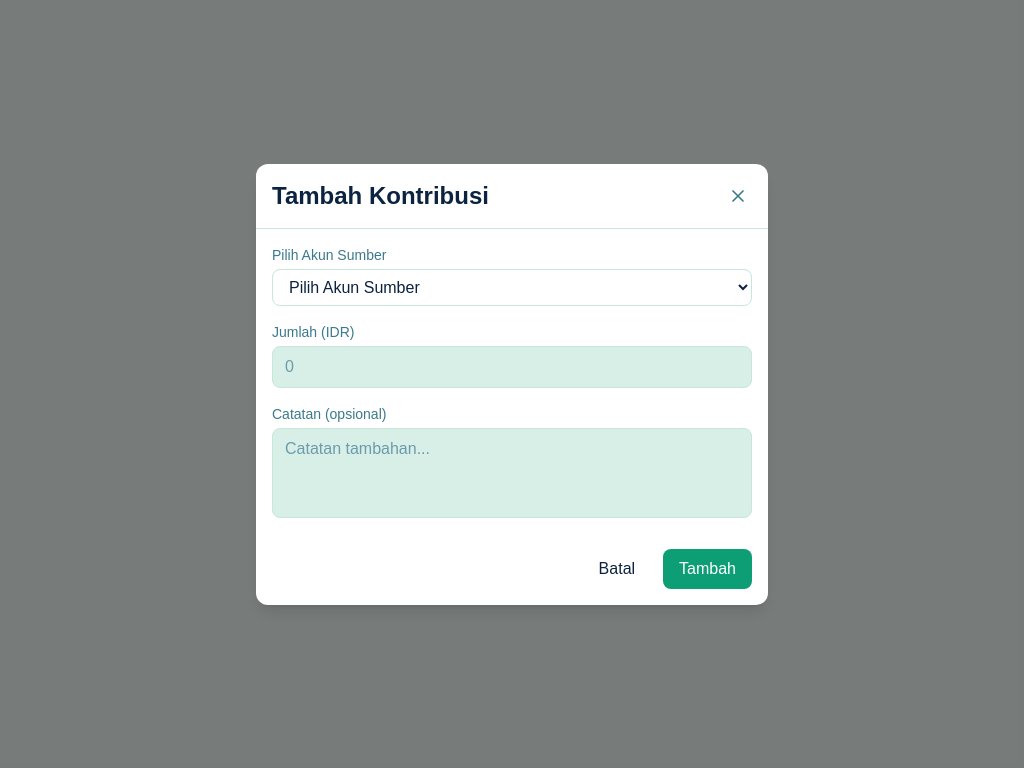
ContributionForm › shows error when amount is empty on submit
Click the button "Tambah": click(708, 568) [663, 548, 752, 588]
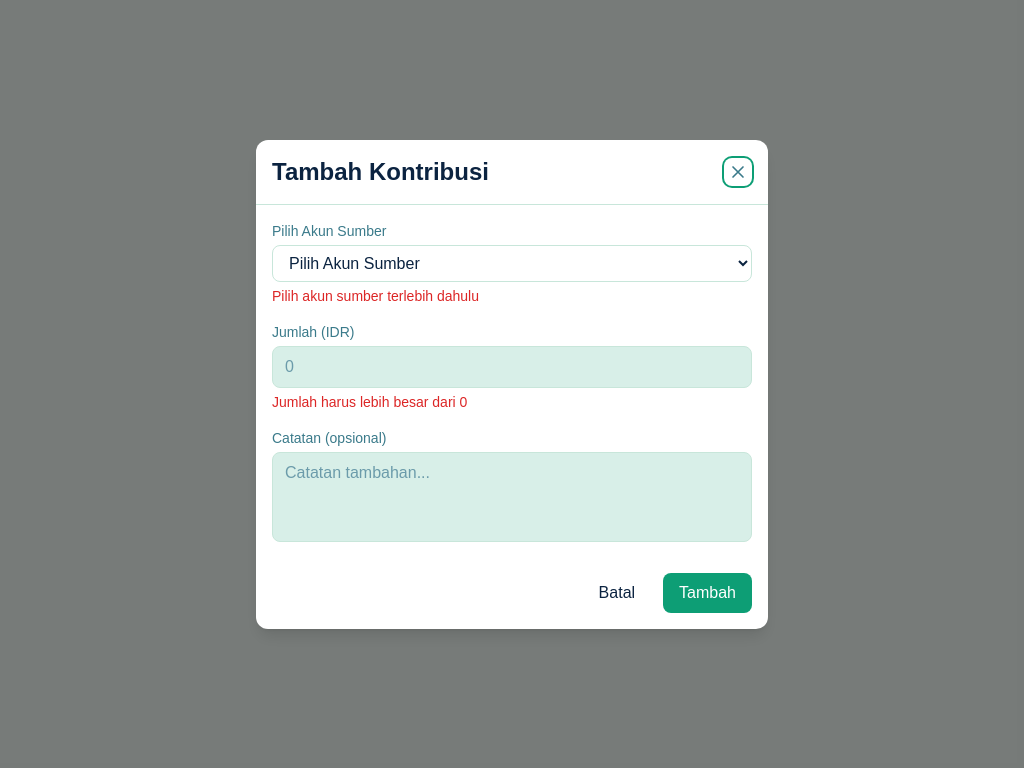
Now the text "Jumlah harus lebih besar dari 0" is shown, box [272, 394, 467, 410]
